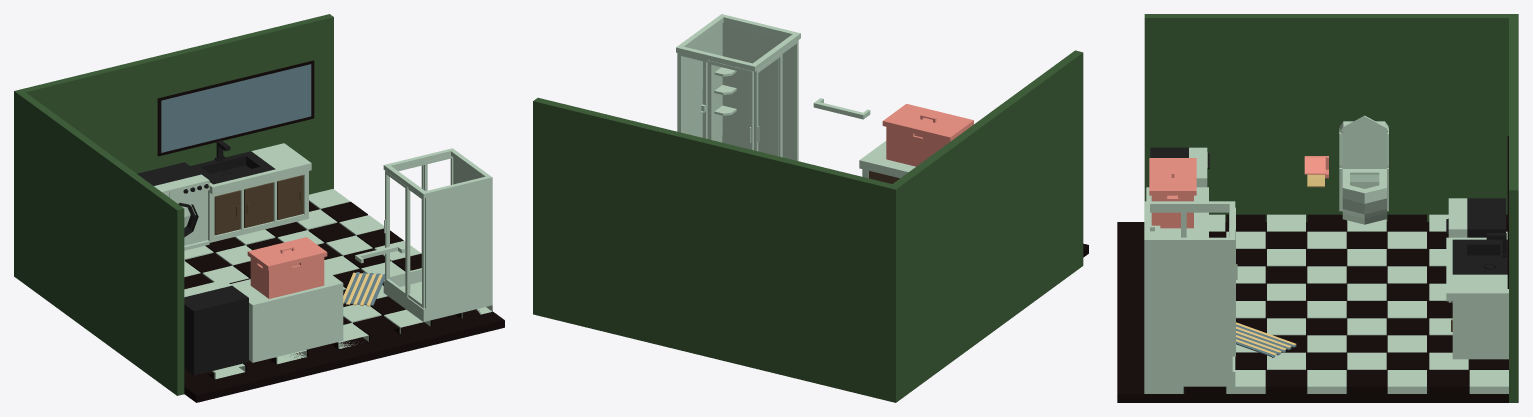
Rendered from Toilet.fbx.
3 renders of one model, left to right at view 1: azimuth 30°, elevation 25°; view 2: azimuth 150°, elevation 25°; view 3: azimuth 270°, elevation 25°, orthographic. The views are drawn at different scales.
Parts seen in each view (by area): view 1: ToiletWall, ToiletUnit2, ToiletFloor7, ToiletUnit1, ToiletUnit3; view 2: ToiletWall, ToiletUnit3, ToiletUnit1; view 3: ToiletWall, ToiletFloor7, ToiletUnit3, ToiletUnit2, Toilet, ToiletUnit1.
Boxes of the visible parts, left/top/right/bottom form: ToiletWall: left=14, top=14, right=333, bottom=395; ToiletUnit2: left=137, top=60, right=314, bottom=250; ToiletFloor7: left=184, top=189, right=504, bottom=402; ToiletUnit1: left=184, top=237, right=343, bottom=375; ToiletUnit3: left=343, top=148, right=492, bottom=321; ToiletWall: left=533, top=50, right=1083, bottom=402; ToiletUnit3: left=676, top=14, right=870, bottom=161; ToiletUnit1: left=859, top=104, right=973, bottom=183; ToiletWall: left=1144, top=14, right=1518, bottom=402; ToiletFloor7: left=1117, top=214, right=1508, bottom=402; ToiletUnit3: left=1144, top=201, right=1296, bottom=386; ToiletUnit2: left=1446, top=136, right=1508, bottom=359; Toilet: left=1304, top=115, right=1388, bottom=224; ToiletUnit1: left=1146, top=147, right=1209, bottom=237.
Bounding box in the file's own units: 11.47 × 6.44 × 11.02.
